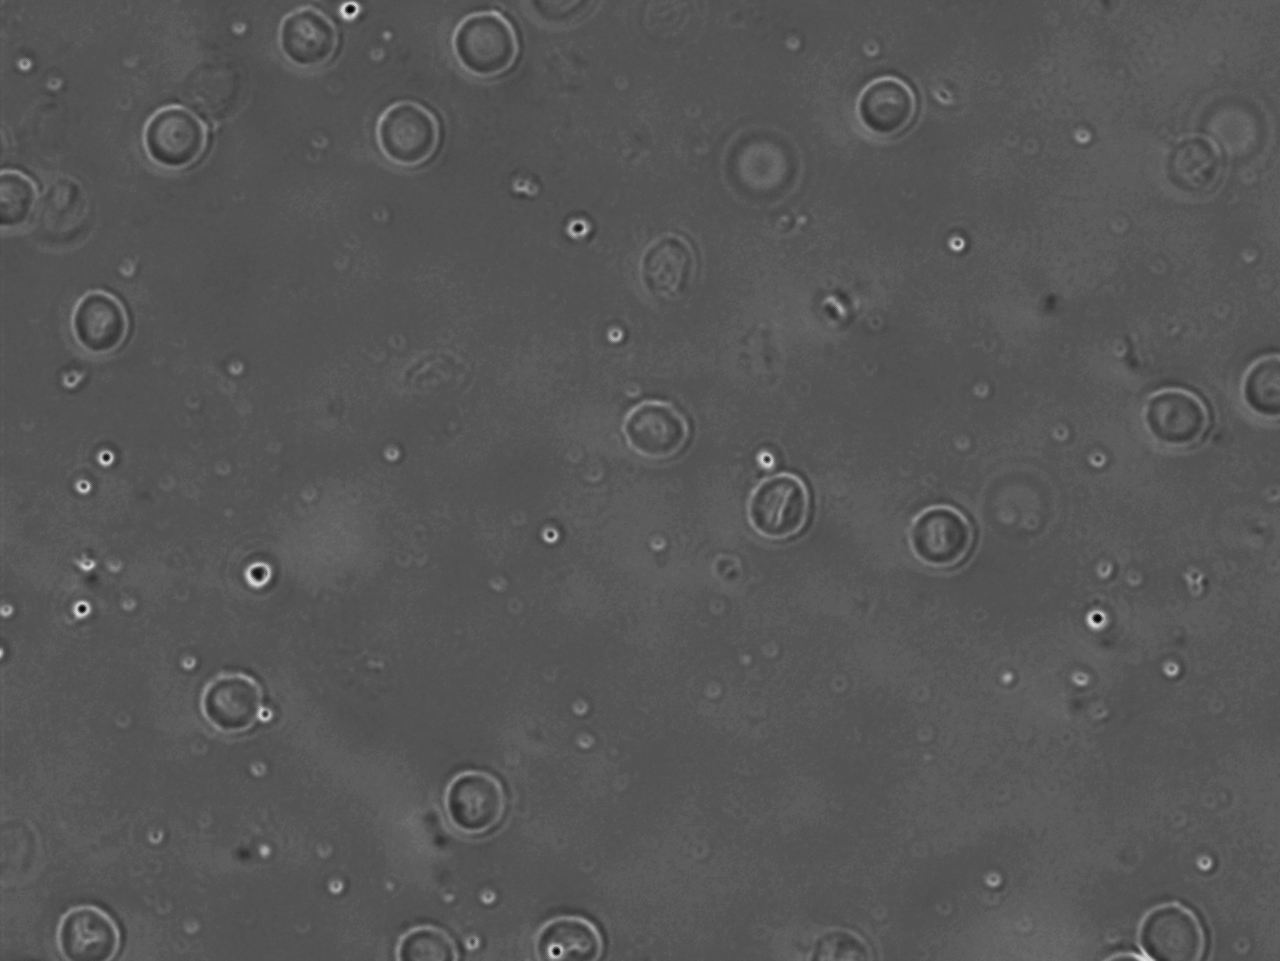depth:0: (608, 383, 698, 480), (731, 455, 821, 550), (56, 283, 147, 375), (895, 495, 983, 588), (445, 0, 532, 90), (435, 750, 517, 839), (193, 662, 285, 740), (1139, 368, 1222, 452), (133, 98, 218, 181), (366, 90, 449, 171), (40, 899, 148, 961), (848, 67, 930, 147)
